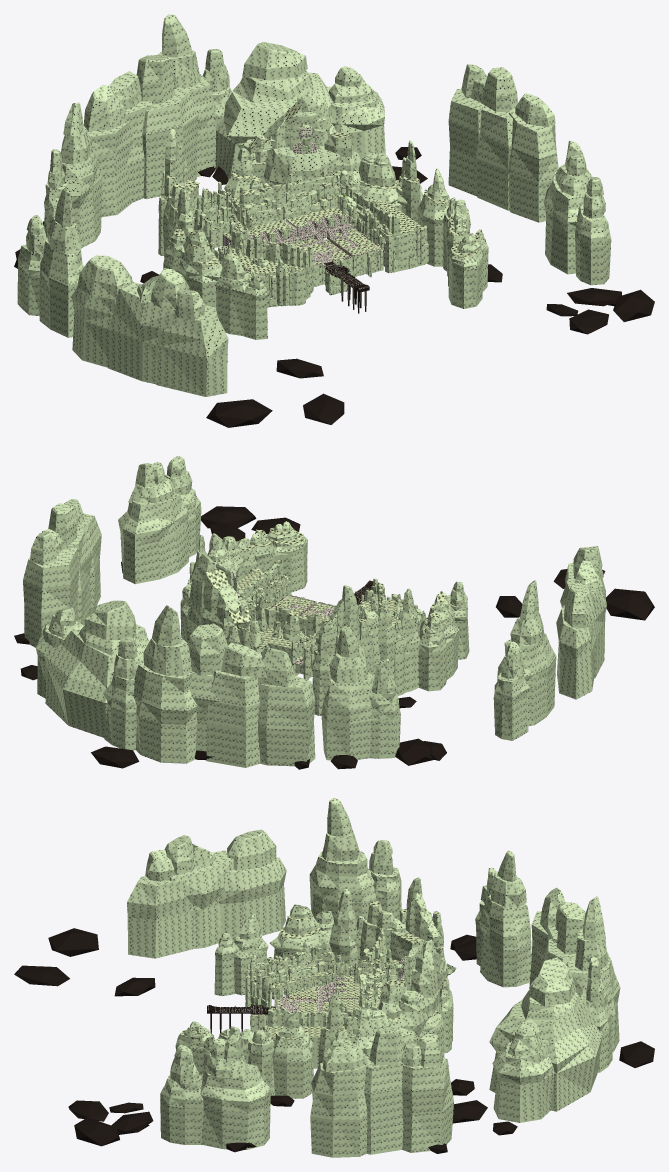
The model's file is LOBBY_02_TERRAIN_87a2cf.fbx.
3 renders of one model, top to bottom at view 1: azimuth 30°, elevation 25°; view 2: azimuth 150°, elevation 25°; view 3: azimuth 270°, elevation 25°, orthographic. The views are drawn at different scales.
Visible parts, largest first — view 1: TER_Mountains_Peaks__Cliff_Rock_Far_Dark, TER_Mountains_Peaks__Cliff_Rock_Far, TER_Mountains_Peaks__Cliff_Rock_Mid_Dark, TER_Mountains_Peaks__Cliff_Rock_Mid, TER_Far_Valley__P_OPM_ConcreteLight, TER_Mountains_Near__Cliff_Rock_Dark, TER_Mountains_Near__Cliff_Rock, TER_Mountains_Near__Cliff_Rock_Top, TER_Mountains_Near__Cliff_Rock_Mid, TER_Mountains_Peaks__Grass_Dark, TER_Mountains_Near__Cliff_Rock_Mid_Dark, TER_Mountains_Near__Grass_Dark (+3 smaller); view 2: TER_Mountains_Peaks__Cliff_Rock_Far_Dark, TER_Mountains_Peaks__Cliff_Rock_Far, TER_Mountains_Peaks__Cliff_Rock_Mid_Dark, TER_Mountains_Peaks__Cliff_Rock_Mid, TER_Far_Valley__P_OPM_ConcreteLight, TER_Mountains_Peaks__Grass_Dark, TER_Mountains_Near__Grass_Dark, TER_Mountains_Near__Cliff_Rock_Top, TER_Mountains_Near__Cliff_Rock_Mid, TER_Mountains_Near__Cliff_Rock_Mid_Dark, TER_Mountains_Near__Cliff_Rock_Dark, TER_Mountains_Near__Cliff_Rock (+1 smaller); view 3: TER_Mountains_Peaks__Cliff_Rock_Far_Dark, TER_Mountains_Peaks__Cliff_Rock_Far, TER_Mountains_Peaks__Cliff_Rock_Mid_Dark, TER_Mountains_Peaks__Cliff_Rock_Mid, TER_Far_Valley__P_OPM_ConcreteLight, TER_Mountains_Near__Cliff_Rock_Dark, TER_Mountains_Near__Cliff_Rock_Top, TER_Mountains_Peaks__Grass_Dark, TER_Mountains_Near__Cliff_Rock, TER_Mountains_Near__Cliff_Rock_Mid, TER_Mountains_Near__Cliff_Rock_Mid_Dark, TER_Mountains_Near__Grass (+2 smaller).
Boxes of the visible parts, x1,y1,x2,y2 form: TER_Mountains_Peaks__Cliff_Rock_Far_Dark: (26, 64, 605, 383); TER_Mountains_Peaks__Cliff_Rock_Far: (17, 14, 611, 396); TER_Mountains_Peaks__Cliff_Rock_Mid_Dark: (161, 85, 488, 339); TER_Mountains_Peaks__Cliff_Rock_Mid: (158, 107, 485, 309); TER_Far_Valley__P_OPM_ConcreteLight: (14, 147, 654, 427); TER_Mountains_Near__Cliff_Rock_Dark: (194, 192, 425, 307); TER_Mountains_Near__Cliff_Rock: (204, 189, 427, 306); TER_Mountains_Near__Cliff_Rock_Top: (204, 181, 426, 283); TER_Mountains_Near__Cliff_Rock_Mid: (196, 168, 359, 228); TER_Mountains_Peaks__Grass_Dark: (159, 102, 485, 282); TER_Mountains_Near__Cliff_Rock_Mid_Dark: (195, 162, 352, 229); TER_Mountains_Near__Grass_Dark: (194, 172, 423, 274); TER_Mountains_Peaks__Cliff_Rock_Far_Dark: (30, 456, 606, 766); TER_Mountains_Peaks__Cliff_Rock_Far: (23, 463, 605, 767); TER_Mountains_Peaks__Cliff_Rock_Mid_Dark: (180, 521, 469, 715); TER_Mountains_Peaks__Cliff_Rock_Mid: (181, 524, 465, 692); TER_Far_Valley__P_OPM_ConcreteLight: (14, 506, 654, 769); TER_Mountains_Peaks__Grass_Dark: (189, 527, 454, 654); TER_Mountains_Near__Grass_Dark: (236, 569, 417, 648); TER_Mountains_Near__Cliff_Rock_Top: (237, 559, 425, 626); TER_Mountains_Near__Cliff_Rock_Mid: (247, 603, 320, 641); TER_Mountains_Near__Cliff_Rock_Mid_Dark: (252, 595, 321, 636); TER_Mountains_Near__Cliff_Rock_Dark: (240, 565, 420, 662); TER_Mountains_Near__Cliff_Rock: (244, 570, 424, 635); TER_Mountains_Peaks__Cliff_Rock_Far_Dark: (145, 829, 620, 1154); TER_Mountains_Peaks__Cliff_Rock_Far: (127, 798, 608, 1157); TER_Mountains_Peaks__Cliff_Rock_Mid_Dark: (175, 889, 452, 1095); TER_Mountains_Peaks__Cliff_Rock_Mid: (184, 877, 456, 1098); TER_Far_Valley__P_OPM_ConcreteLight: (14, 928, 654, 1153); TER_Mountains_Near__Cliff_Rock_Dark: (245, 952, 361, 1068); TER_Mountains_Near__Cliff_Rock_Top: (246, 947, 368, 1027); TER_Mountains_Peaks__Grass_Dark: (180, 901, 454, 1047); TER_Mountains_Near__Cliff_Rock: (246, 952, 365, 1027); TER_Mountains_Near__Cliff_Rock_Mid: (364, 927, 391, 1009); TER_Mountains_Near__Cliff_Rock_Mid_Dark: (361, 940, 397, 1009); TER_Mountains_Near__Grass: (246, 937, 386, 1018).
Bounding box in the file's own units: 1309 × 377 × 1488.
Materials: 10 (5 with a texture image).
